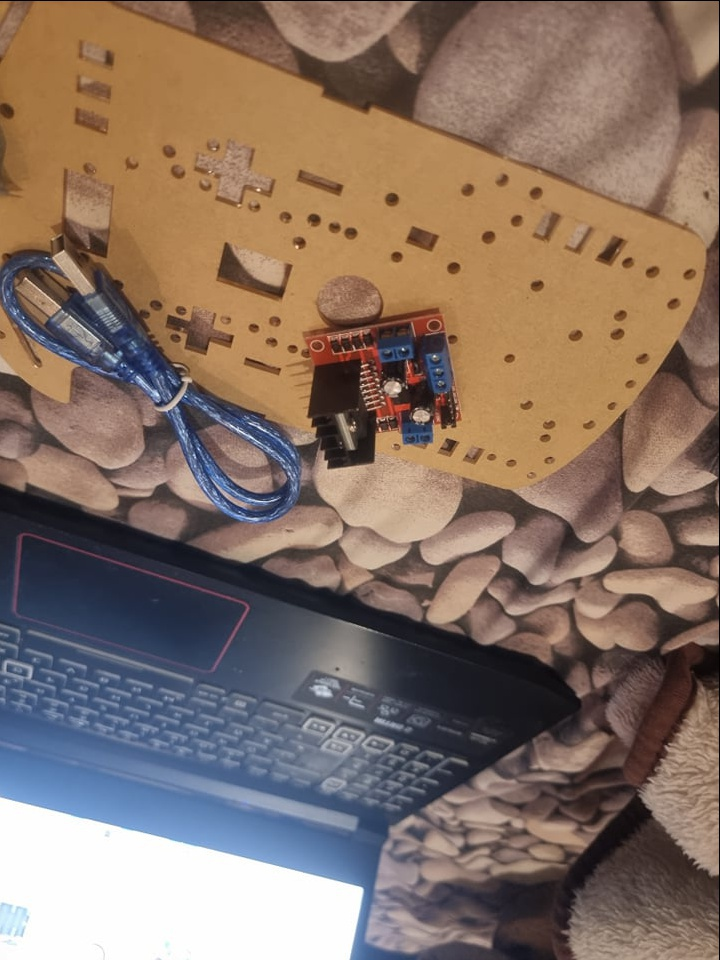MOTOR: (301, 314, 461, 471)
